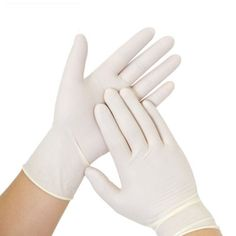gloves: (8, 26, 181, 181), (84, 87, 223, 230)
